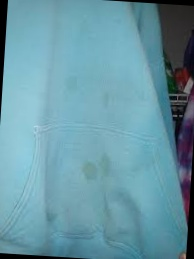mustard: (96, 152, 113, 176), (82, 163, 97, 179), (66, 74, 78, 92), (101, 93, 110, 109)
